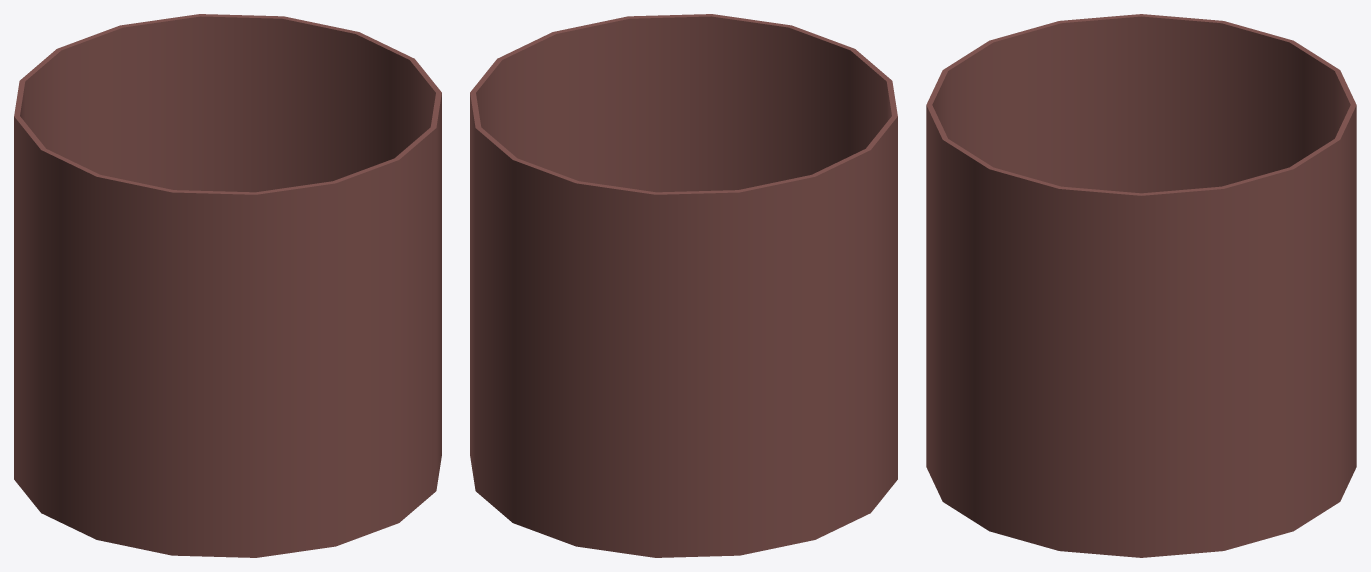
Rendered from large_mech_gestator_glass.obj.
3 renders of one model, left to right at view 1: azimuth 30°, elevation 25°; view 2: azimuth 150°, elevation 25°; view 3: azimuth 270°, elevation 25°, orthographic.
Parts seen in each view (by area): view 1: large_mech_gestator_glass; view 2: large_mech_gestator_glass; view 3: large_mech_gestator_glass.
Boxes of the visible parts, box(x1,y1,x2,y2) form: large_mech_gestator_glass: box(14, 14, 441, 557); large_mech_gestator_glass: box(470, 14, 897, 557); large_mech_gestator_glass: box(926, 14, 1356, 557).
Size of the model in its own units: 1.82 by 1.69 by 1.82.
